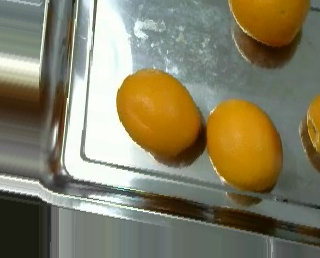Orange: (115, 67, 200, 157), (206, 99, 285, 191)
